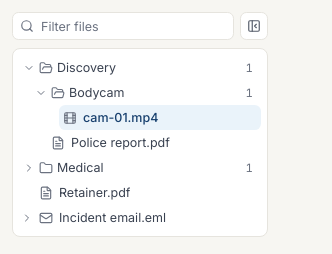
Scenario: DocumentFileTree › the filter finds attachments inside an email
Type "dispatch" into the search field labelled "Filter files" at (123, 26), box [12, 12, 234, 40]
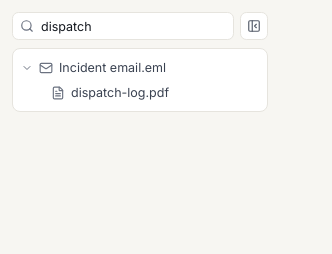
Expected: the link "Incident email.eml" is shown, [39, 60, 166, 75]
Result: the link "dispatch-log.pdf" is shown at [51, 85, 169, 100]
Result: the link "Retainer.pdf" is gone
